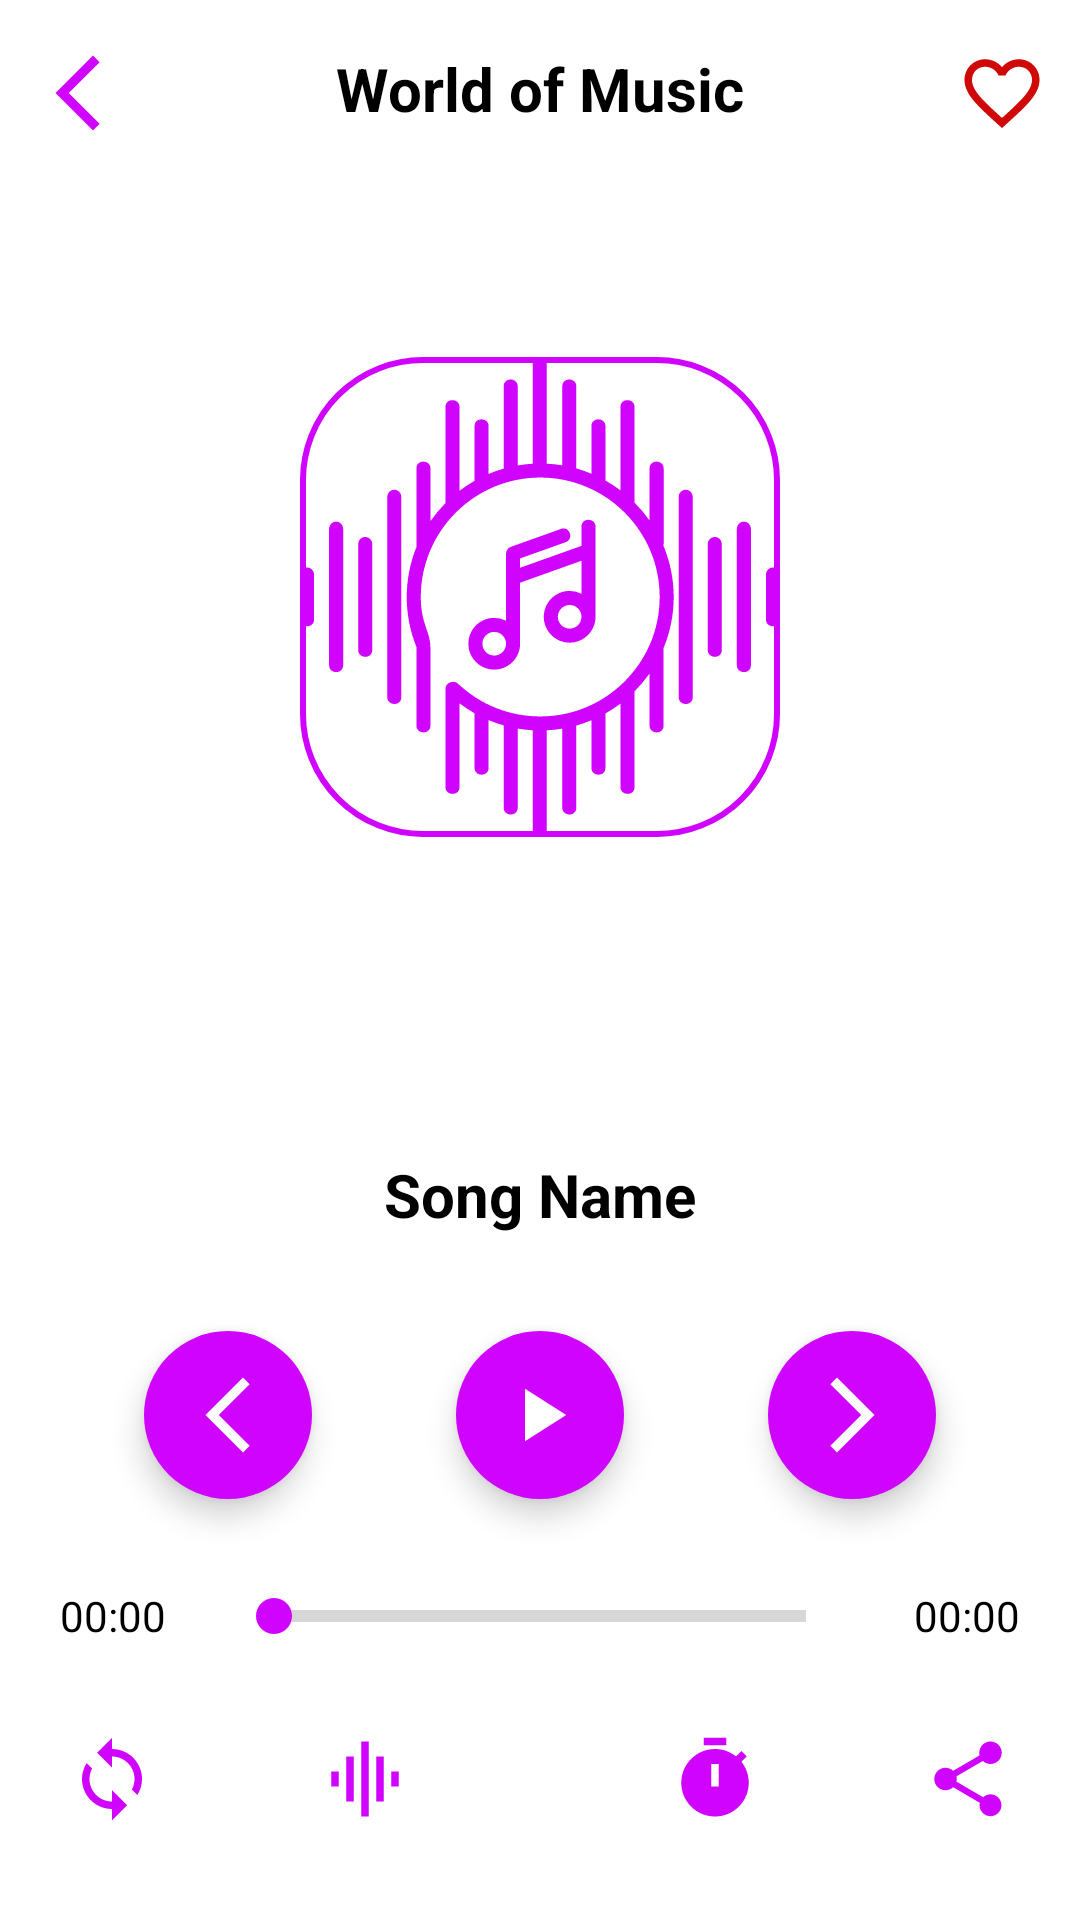

Point at icon controls on the screen. Image size 1080px×1920px, points as (x=x, y=y).
back arrow: (x=77, y=93), (x=228, y=1415)
equlizer: (x=365, y=1779)
farwards: (x=852, y=1415)
favorite border: (x=1002, y=93)
loop: (x=112, y=1779)
play: (x=540, y=1415)
share: (x=968, y=1779)
timer: (x=715, y=1777)
